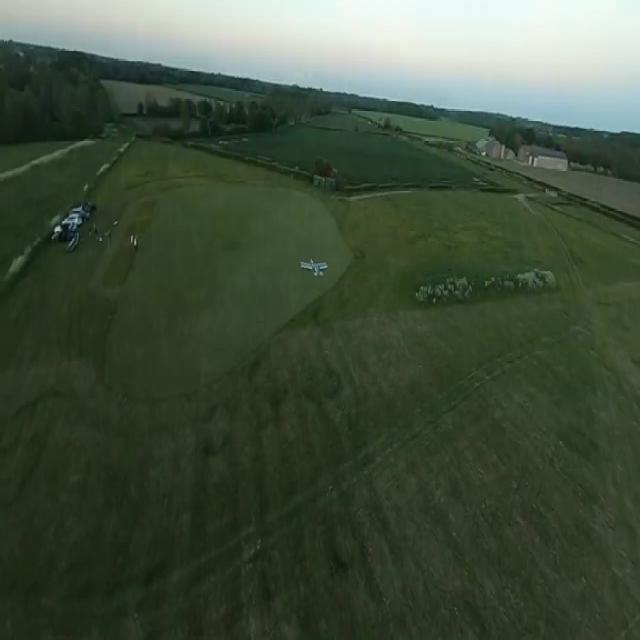iha: (296, 257, 328, 280)
